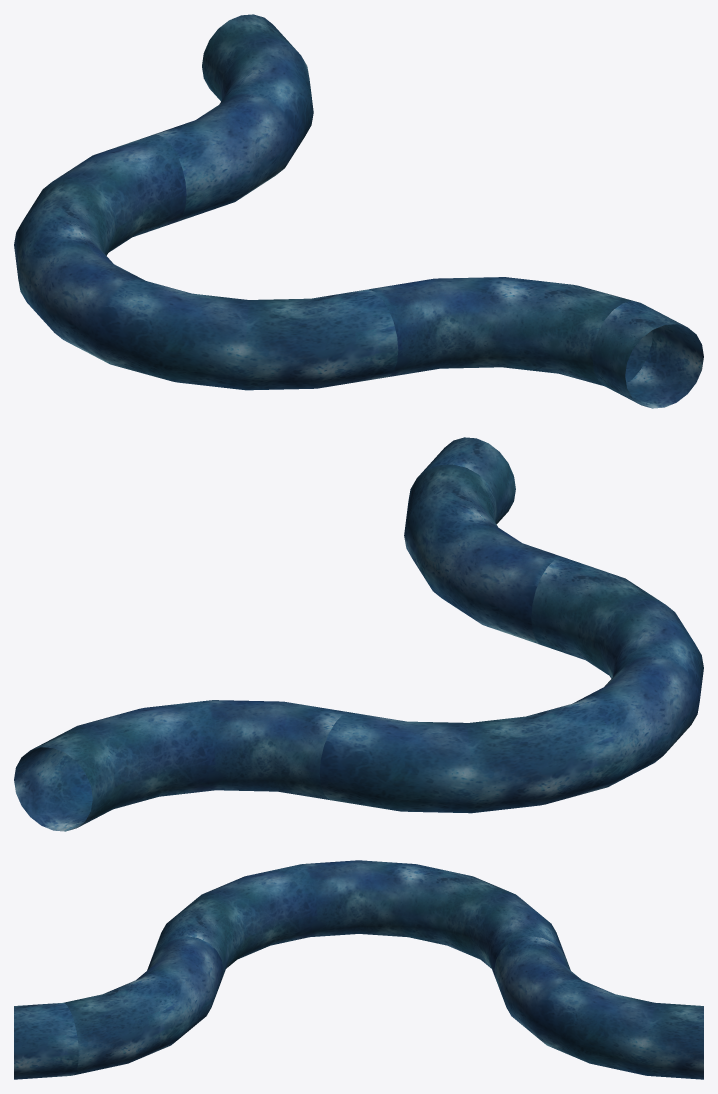
The model's file is stage_Curve.fbx.
The picture shows the model from 3 angles, top to bottom: view 1: azimuth 30°, elevation 25°; view 2: azimuth 150°, elevation 25°; view 3: azimuth 270°, elevation 25°; orthographic projection. The views are drawn at different scales.
Parts seen in each view (by area): view 1: polySurface15; view 2: polySurface15; view 3: polySurface15.
Boxes of the visible parts, left/top/right/bottom form: polySurface15: left=14, top=14, right=703, bottom=408; polySurface15: left=14, top=437, right=703, bottom=831; polySurface15: left=14, top=860, right=703, bottom=1079.
Size of the model in its own units: 4496 by 796 by 7399.
Materials: 1 (1 with a texture image).
